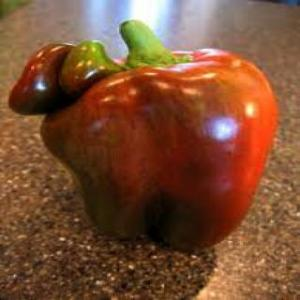bell_pepper: (13, 18, 279, 262)
